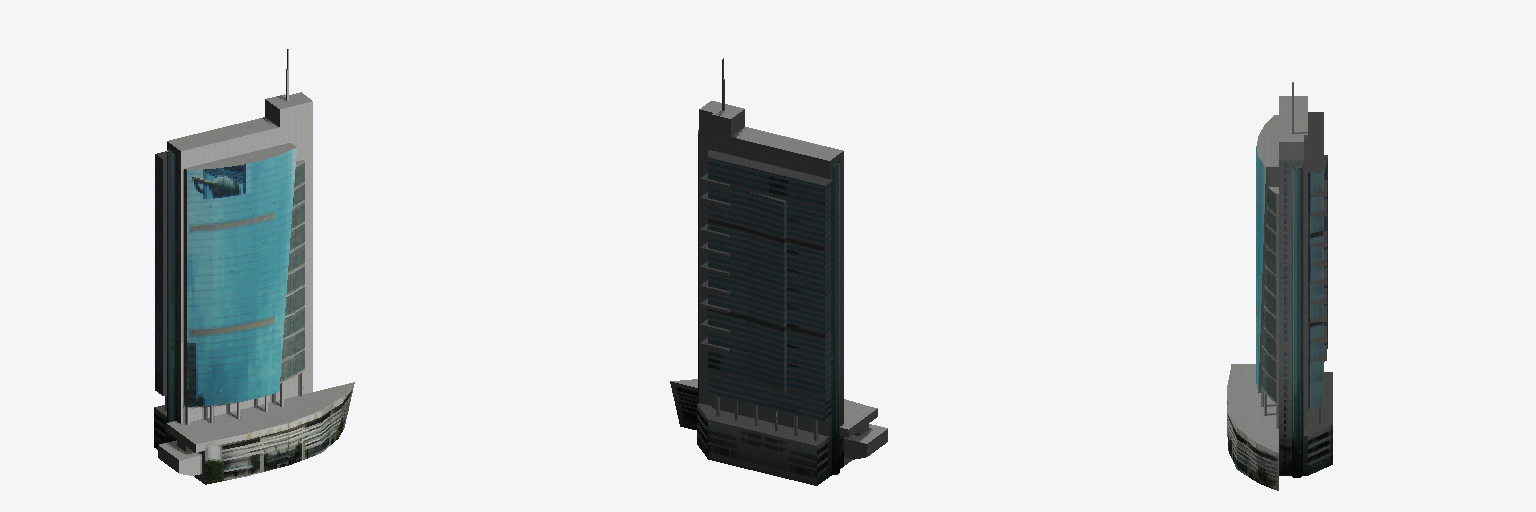
3 renders of one model, left to right at view 1: azimuth 30°, elevation 25°; view 2: azimuth 150°, elevation 25°; view 3: azimuth 270°, elevation 25°, orthographic.
Visible parts, largest first — view 1: Material__490; view 2: Material__490; view 3: Material__490.
Part boxes in pixels (x1,y1,x2,y2): Material__490: (154, 49, 354, 484); Material__490: (670, 58, 887, 485); Material__490: (1227, 82, 1332, 490).
Size of the model in its own units: 99.21 by 185 by 46.27.
Materials: 1 (1 with a texture image).